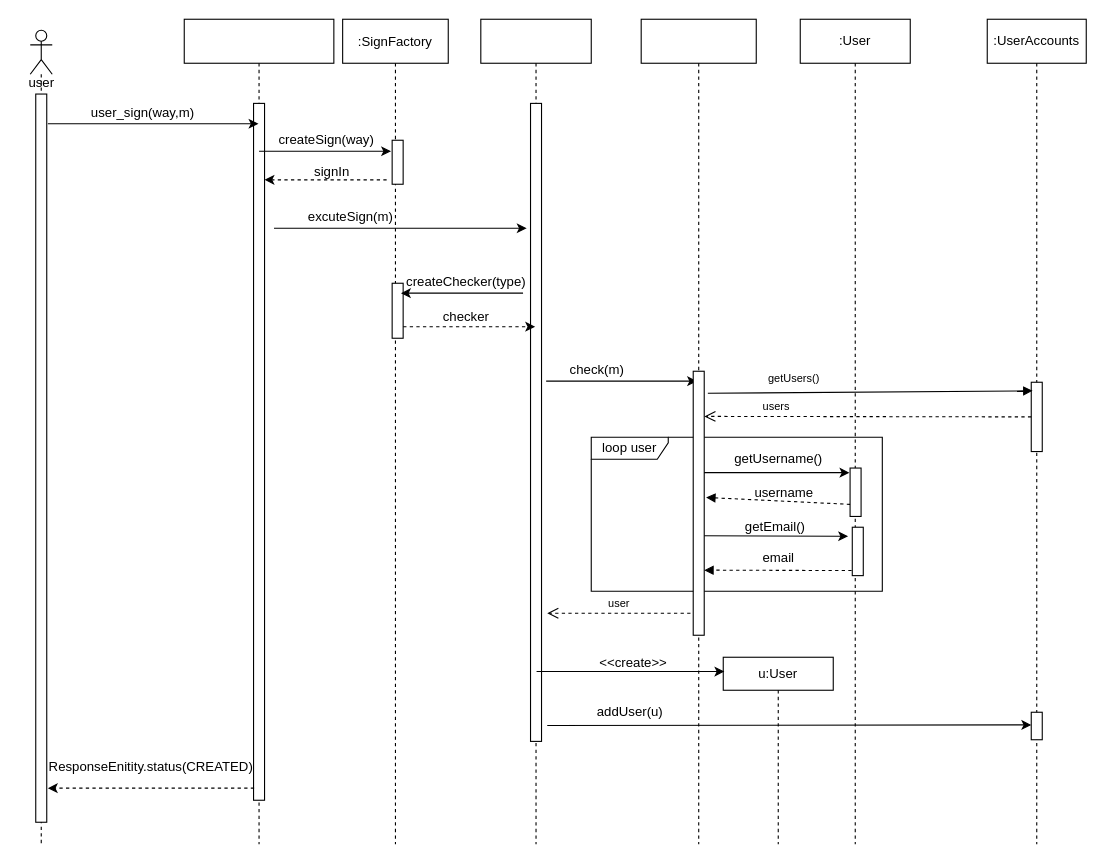
This 1106x864 diagram has some shape labels left out. The shapes that lost their labels are listed below. From the top down, each one's box as (x1, y1, x2, y2) in pixels, then its label:
(183, 18, 334, 844): :SignController
(480, 18, 591, 844): :SignUp
(640, 18, 756, 844): :SignUpChecker
